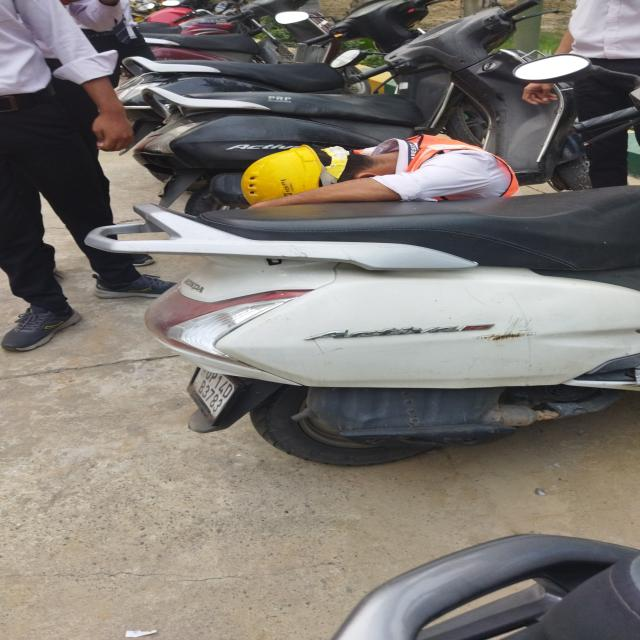safe: (232, 144, 558, 209)
